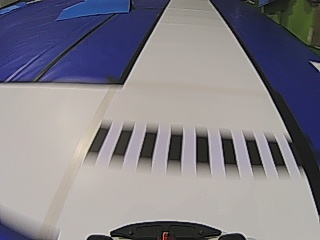CrossWalk: (83, 123, 288, 169)
